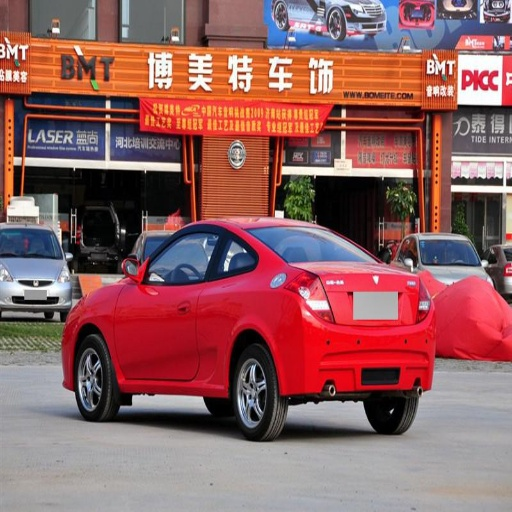back_bumper: (287, 350, 432, 392)
back_glass: (269, 228, 364, 262)
back_left_door: (196, 225, 256, 382)
trunk: (307, 265, 418, 357)
